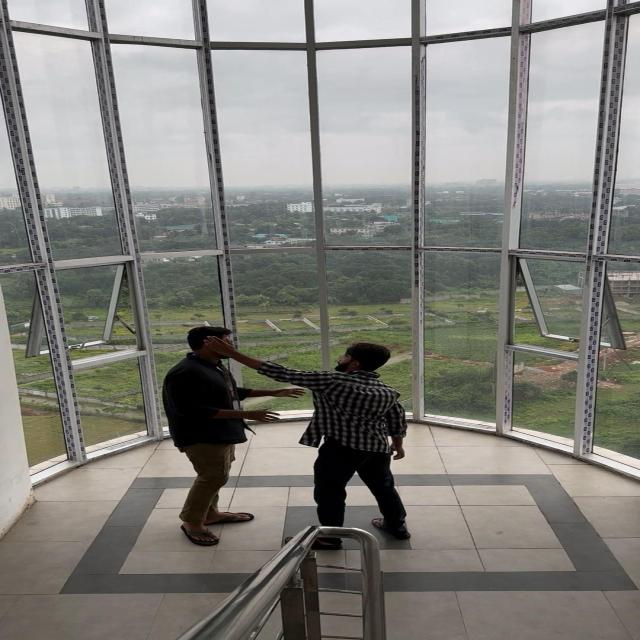fight: (134, 295, 456, 567)
